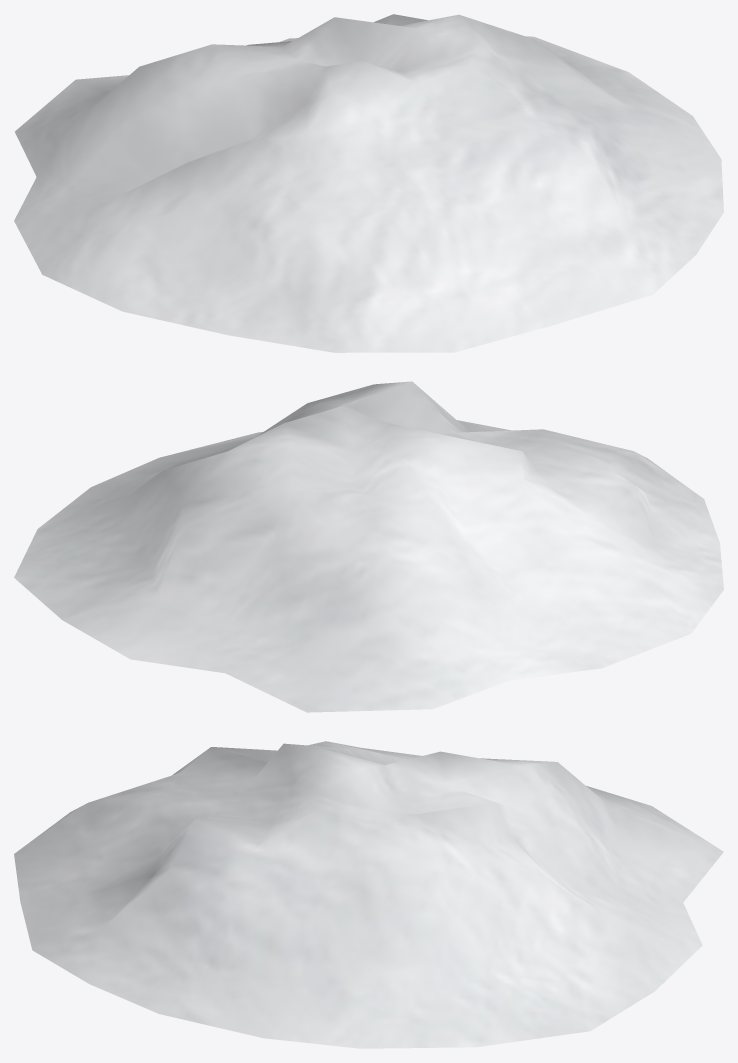
The model's file is SnowPile.fbx.
The picture shows the model from 3 angles, top to bottom: view 1: azimuth 30°, elevation 25°; view 2: azimuth 150°, elevation 25°; view 3: azimuth 270°, elevation 25°; orthographic projection. The views are drawn at different scales.
Parts seen in each view (by area): view 1: Icosphere; view 2: Icosphere; view 3: Icosphere.
Boxes of the visible parts, x1,y1,x2,y2 form: Icosphere: [14, 14, 723, 352]; Icosphere: [14, 381, 723, 712]; Icosphere: [14, 741, 723, 1048].
Bounding box in the file's own units: 336 × 66.71 × 335.
